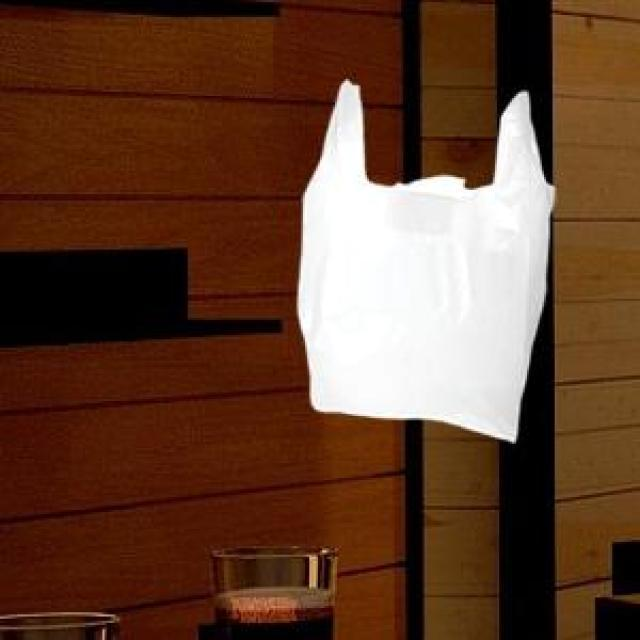Plastic_Bag: (296, 78, 552, 438)
